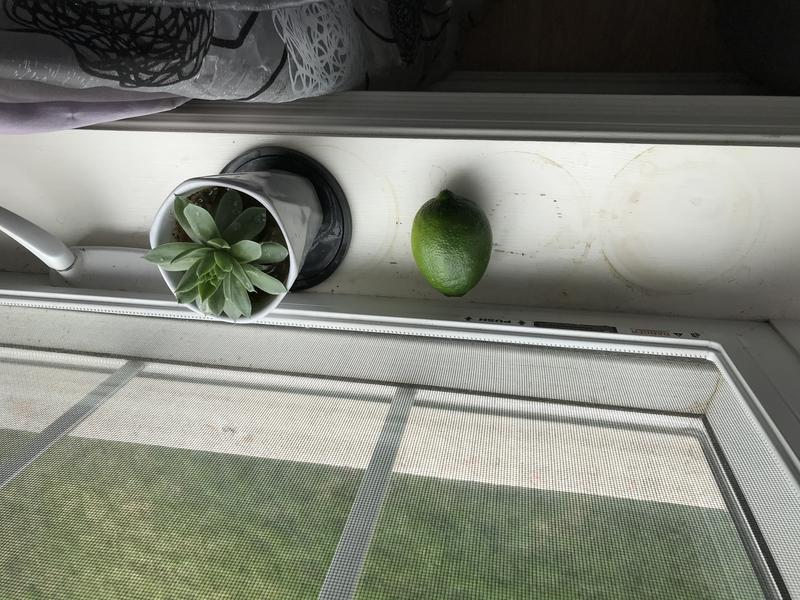lime: (404, 178, 498, 310)
